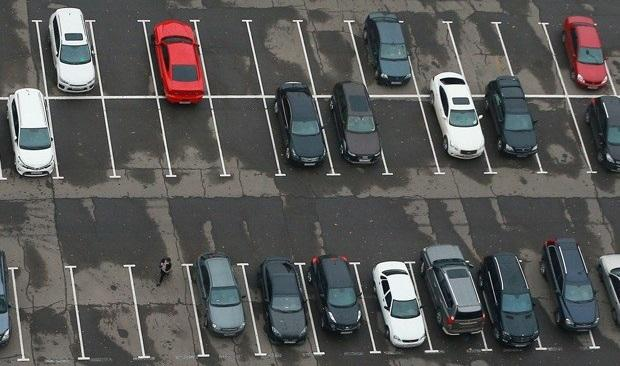occupied: (355, 262, 433, 352), (410, 261, 486, 352), (243, 264, 319, 354), (300, 263, 376, 353), (188, 264, 261, 356), (465, 262, 541, 350), (316, 96, 387, 175), (419, 96, 491, 173), (470, 96, 542, 173), (264, 97, 334, 175), (349, 22, 419, 97), (37, 21, 103, 98), (144, 21, 210, 97)
vacant: (71, 266, 144, 358), (130, 265, 203, 357), (13, 267, 84, 360), (519, 96, 592, 173), (368, 96, 440, 174), (210, 97, 281, 175), (103, 97, 172, 177), (48, 98, 115, 178), (298, 21, 368, 97), (158, 97, 225, 176), (448, 22, 519, 96), (195, 21, 264, 97), (90, 21, 158, 98), (399, 22, 469, 96), (497, 23, 567, 97), (248, 21, 315, 97)
